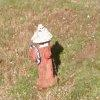a fire hydrant: (34, 25, 59, 88)
